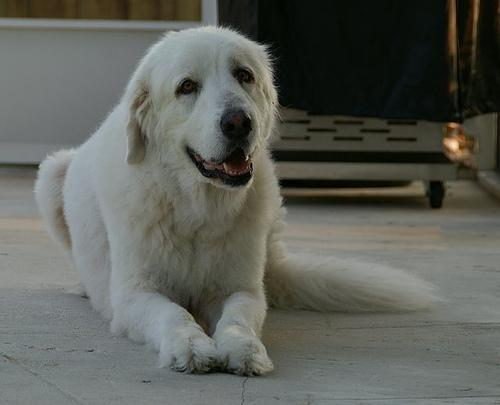Great_Pyrenees: (32, 24, 440, 376)
